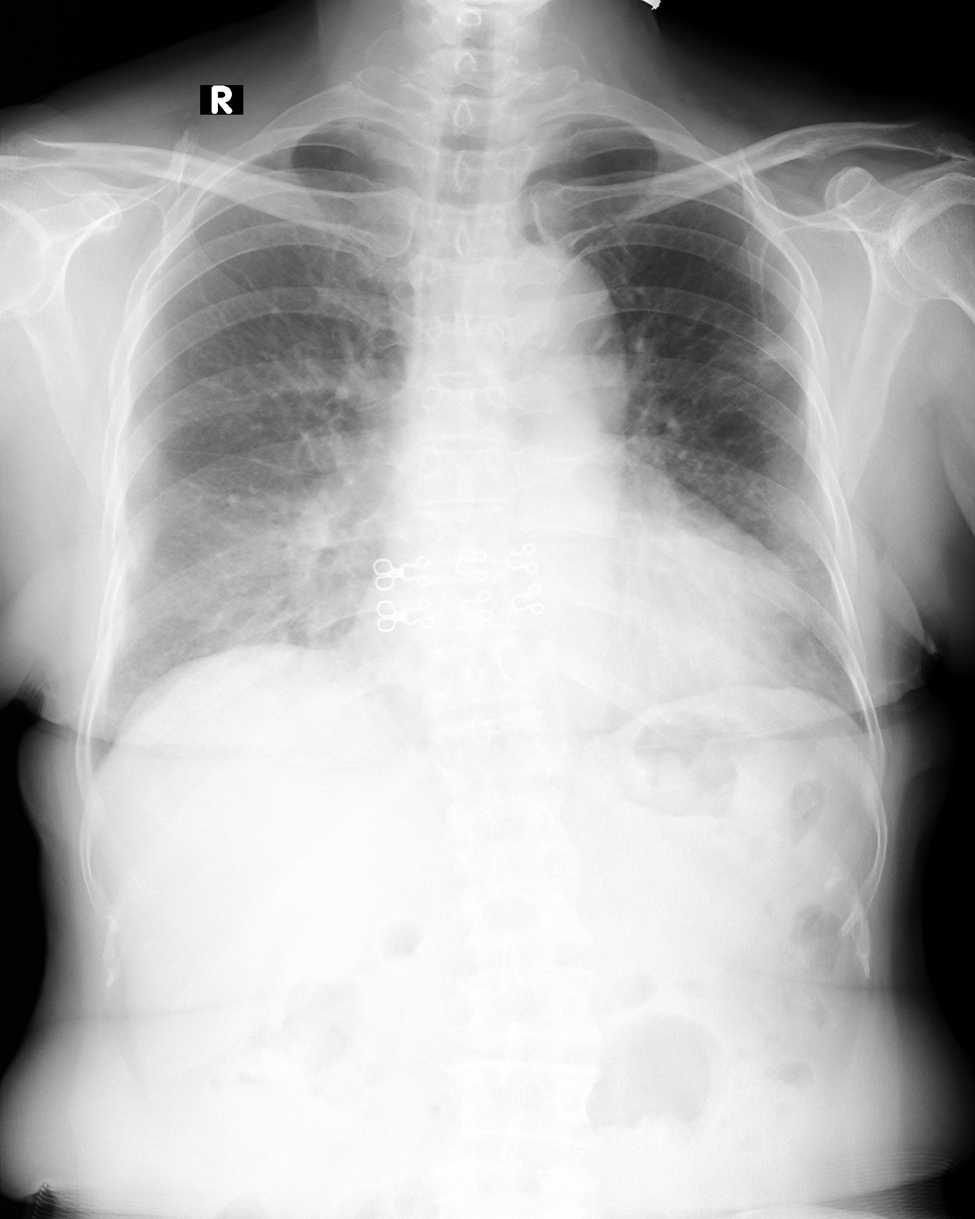Aortic enlargement: (471, 247, 631, 435)
Cardiomegaly: (339, 543, 808, 685)
